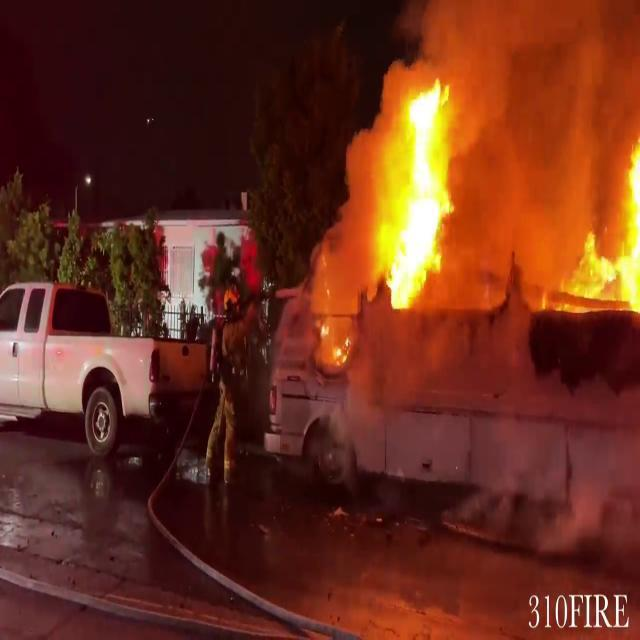Fire: (379, 73, 467, 306), (554, 122, 640, 330)
Smoke: (440, 0, 628, 292)
